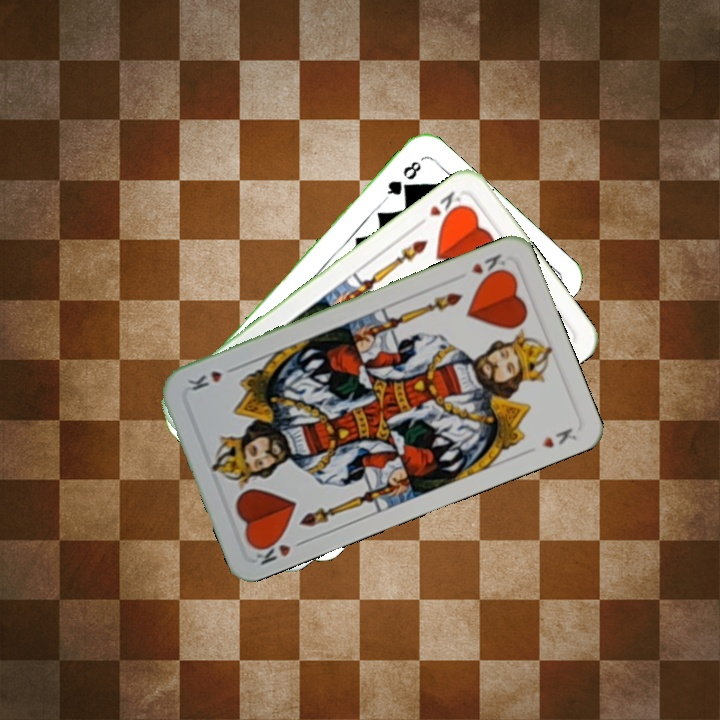G8: (380, 157, 424, 203)
HK: (413, 187, 466, 230), (250, 532, 294, 568), (467, 249, 511, 283)
